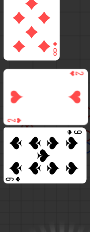2H: (7, 116, 23, 123)
8D: (52, 40, 59, 57)
